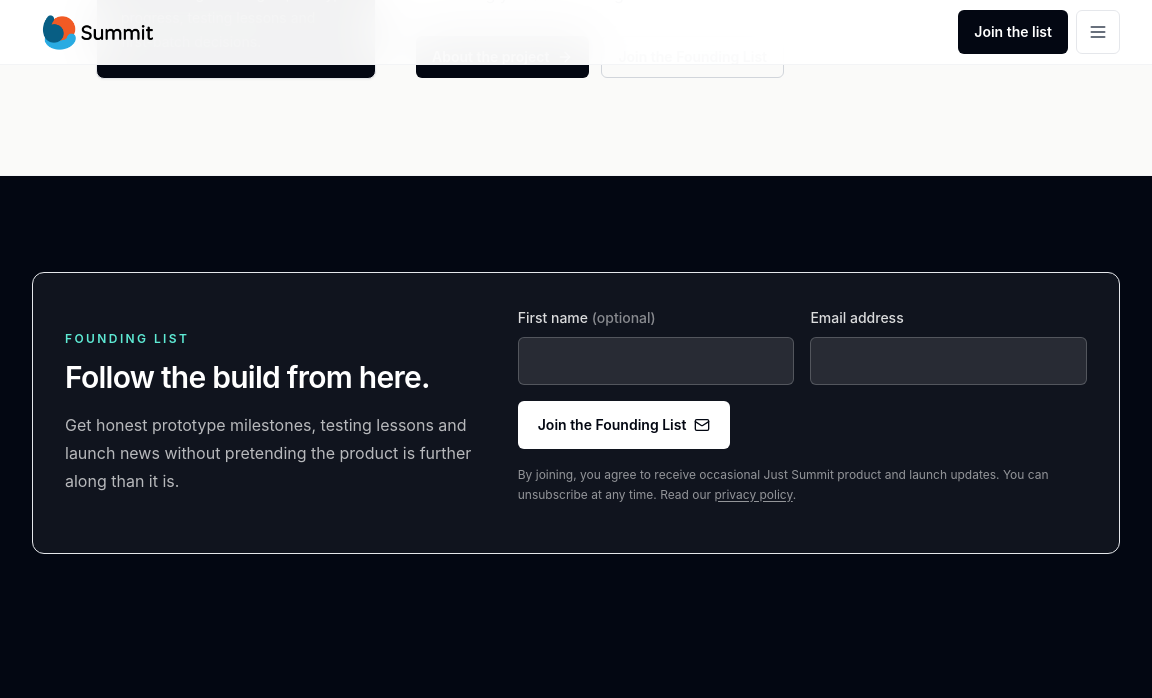
Test case: HomePage › shows and tracks Founding List submission failures
This screenshot has width=1152, height=698.
(page scrolled)
Type "tom@example.com" into the field labelled "Email address". click: point(949, 360)
box: [810,336,1087,384]
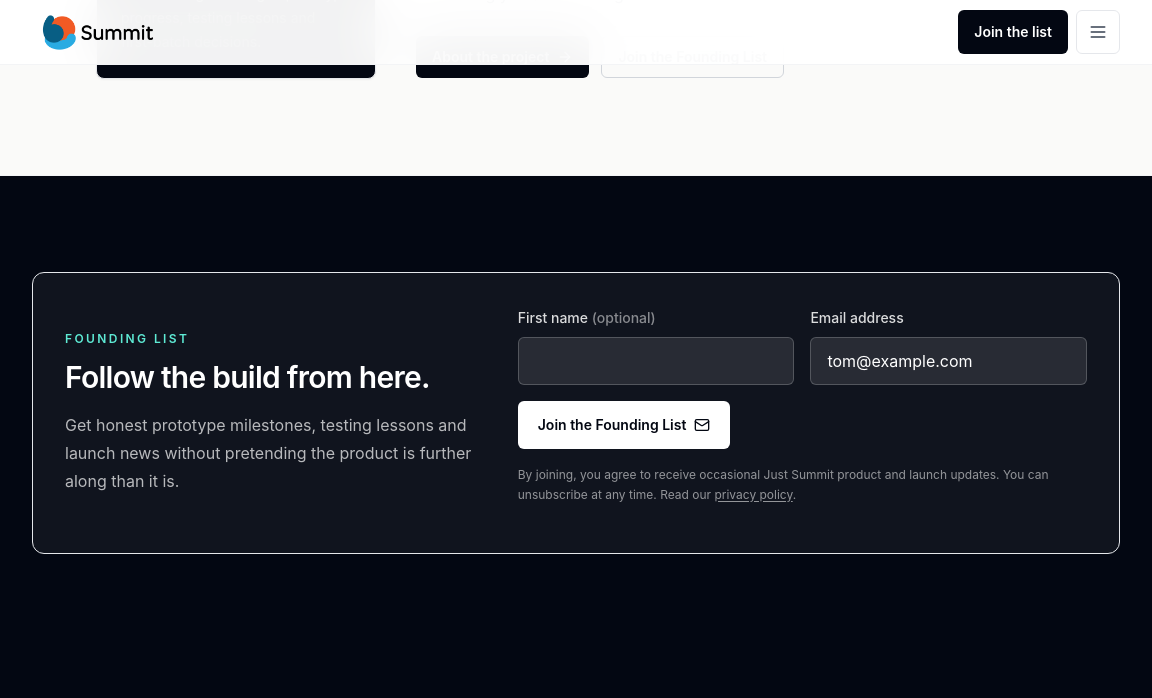
Click the button with test id "founding-list-submit-home_footer". click: point(624, 424)
box: [518,400,730,448]
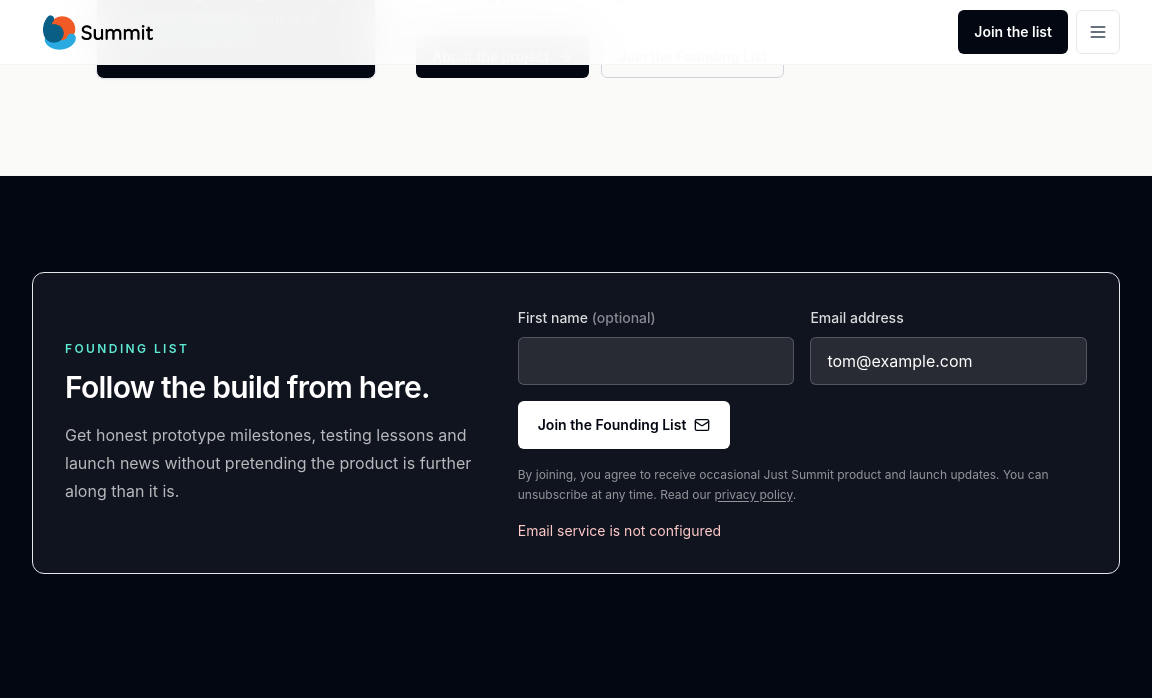
Expected: the message reads "Email service is not configured", [518,522,721,538]
